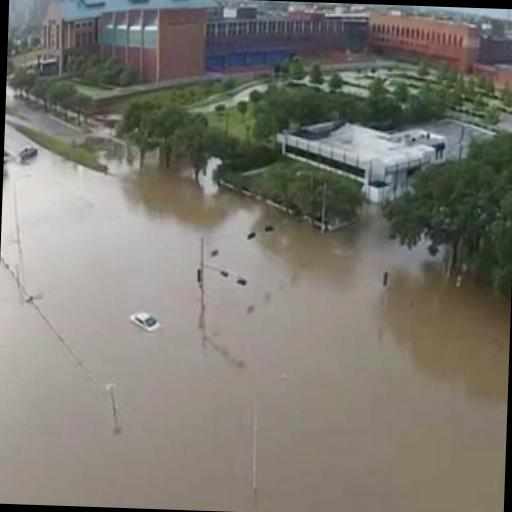flood: (0, 123, 511, 512)
house: (284, 114, 437, 209), (44, 2, 210, 68), (365, 14, 474, 66)
